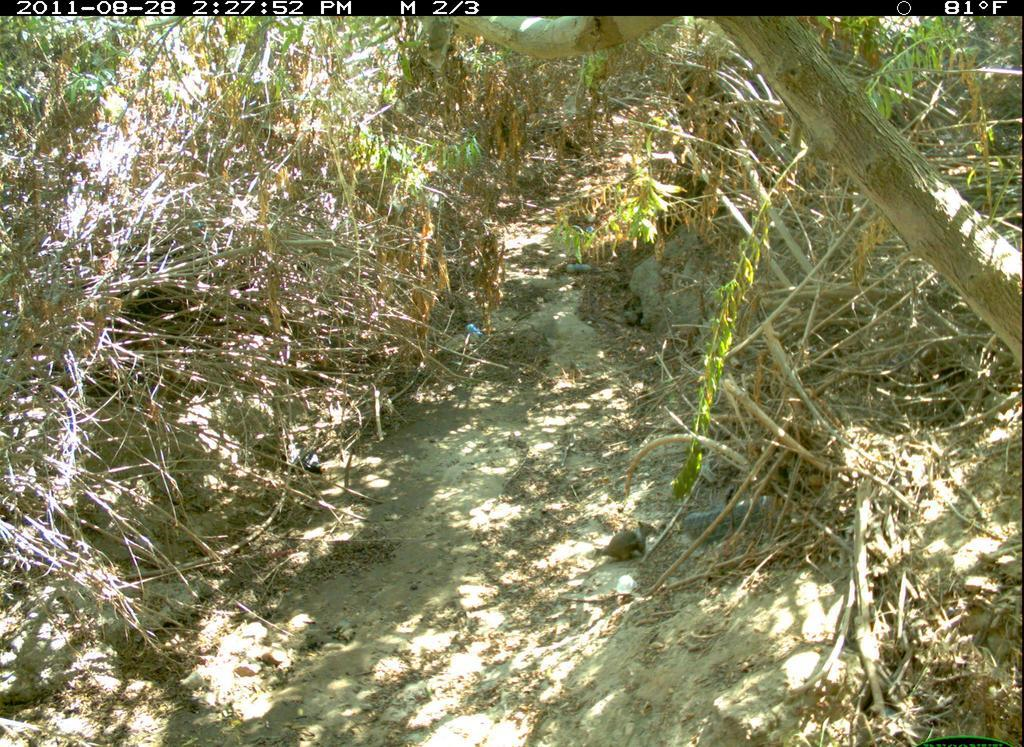squirrel: (584, 510, 666, 580)
